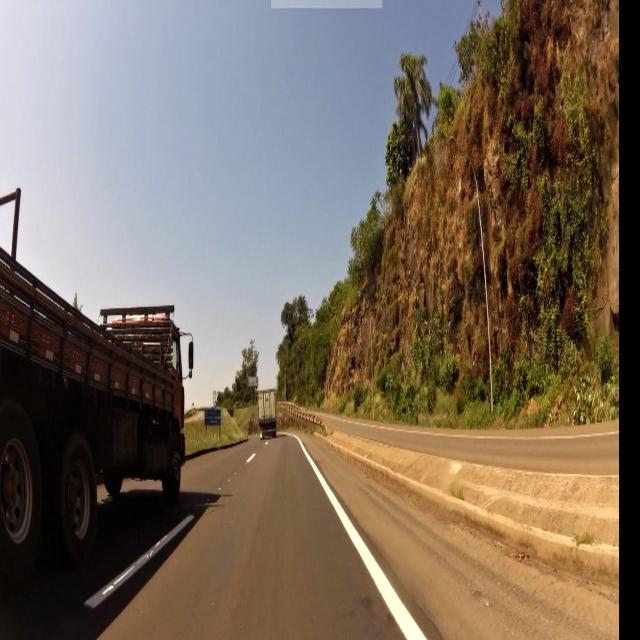LOC-6: (204, 409, 220, 424)
